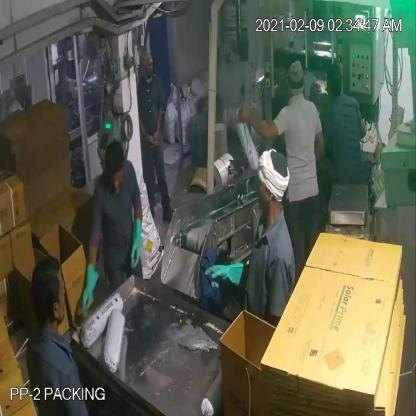glove: (63, 255, 102, 317), (122, 218, 150, 278)
no_glove: (233, 99, 282, 148), (132, 107, 158, 152), (150, 99, 169, 145)
